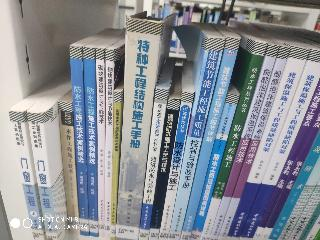book-spine: (220, 44, 311, 240), (235, 49, 320, 240), (207, 44, 279, 240), (217, 46, 289, 240), (198, 41, 267, 240), (103, 18, 162, 240), (177, 36, 240, 240), (164, 35, 225, 240), (251, 83, 320, 240), (188, 93, 239, 240), (158, 91, 193, 240), (9, 109, 44, 240), (137, 89, 167, 240), (148, 99, 179, 240), (28, 112, 58, 240), (71, 45, 89, 236), (59, 100, 80, 236), (84, 47, 98, 236), (102, 50, 114, 238), (109, 92, 120, 239), (97, 50, 104, 237)
